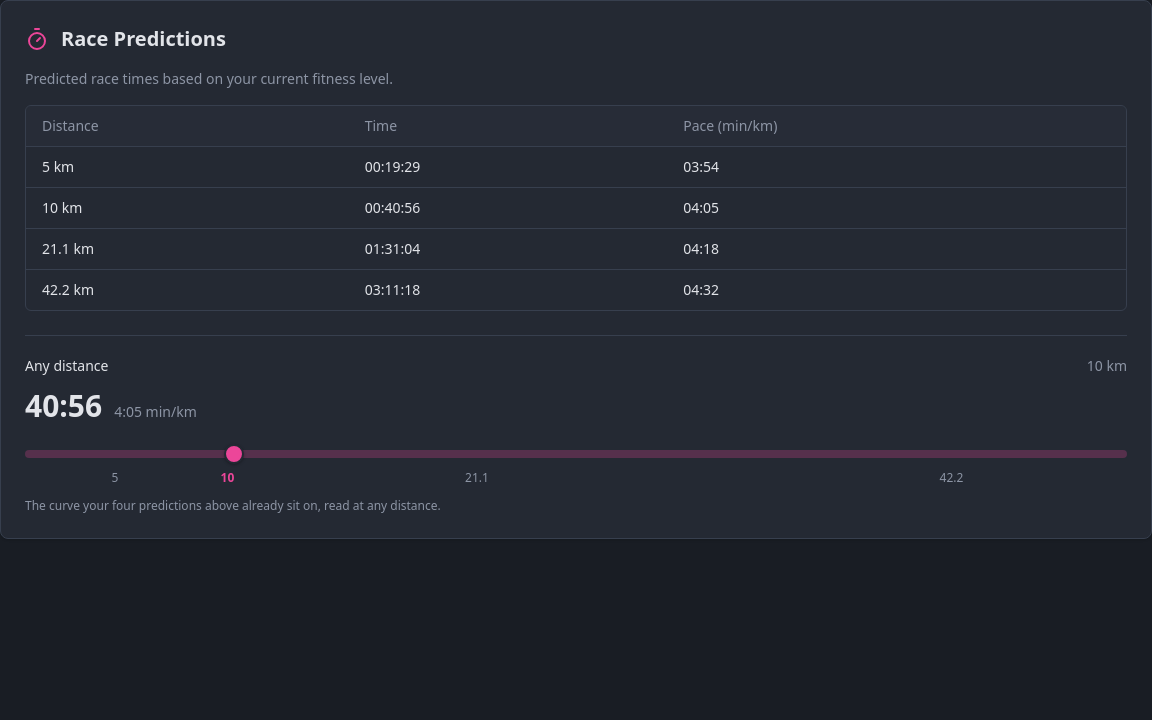
Test case: the distance slider › agrees with the table it sits under
Set the slider labelled "Any distance" to "5" at (122, 454), box [25,450,1127,458]
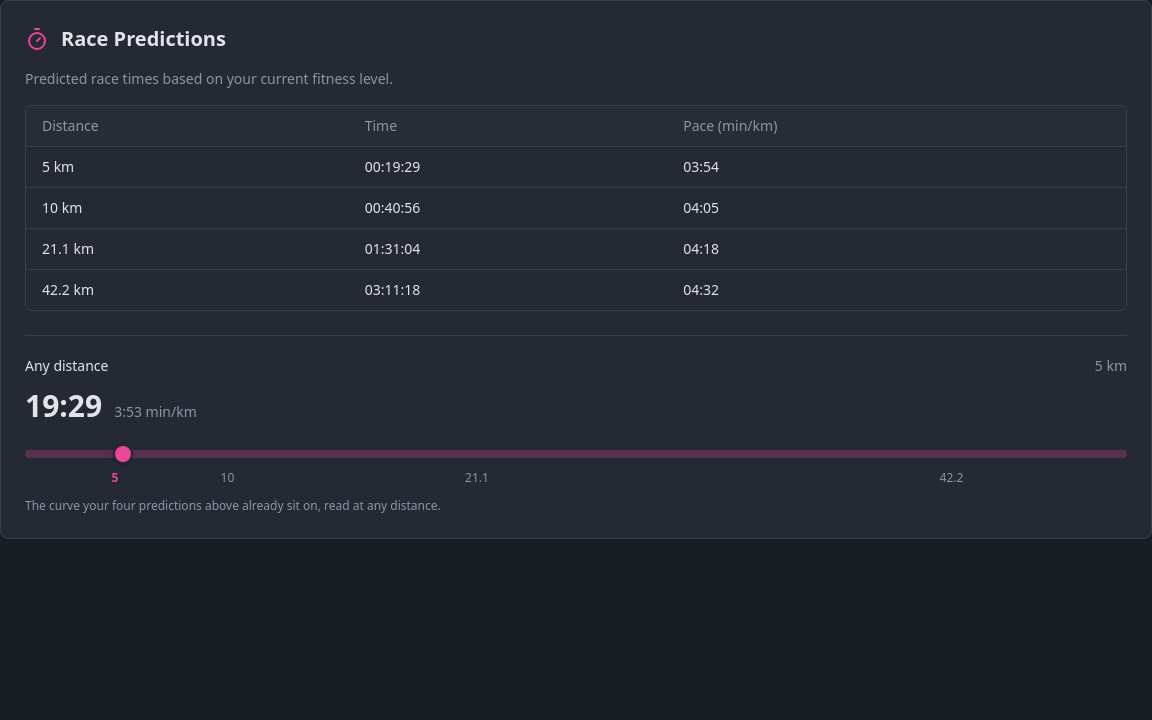
Check: the text "19:29" is shown, box [25,388,102,424]
Set the slider labelled "Any distance" to "10" at (232, 454), box [25,450,1127,458]
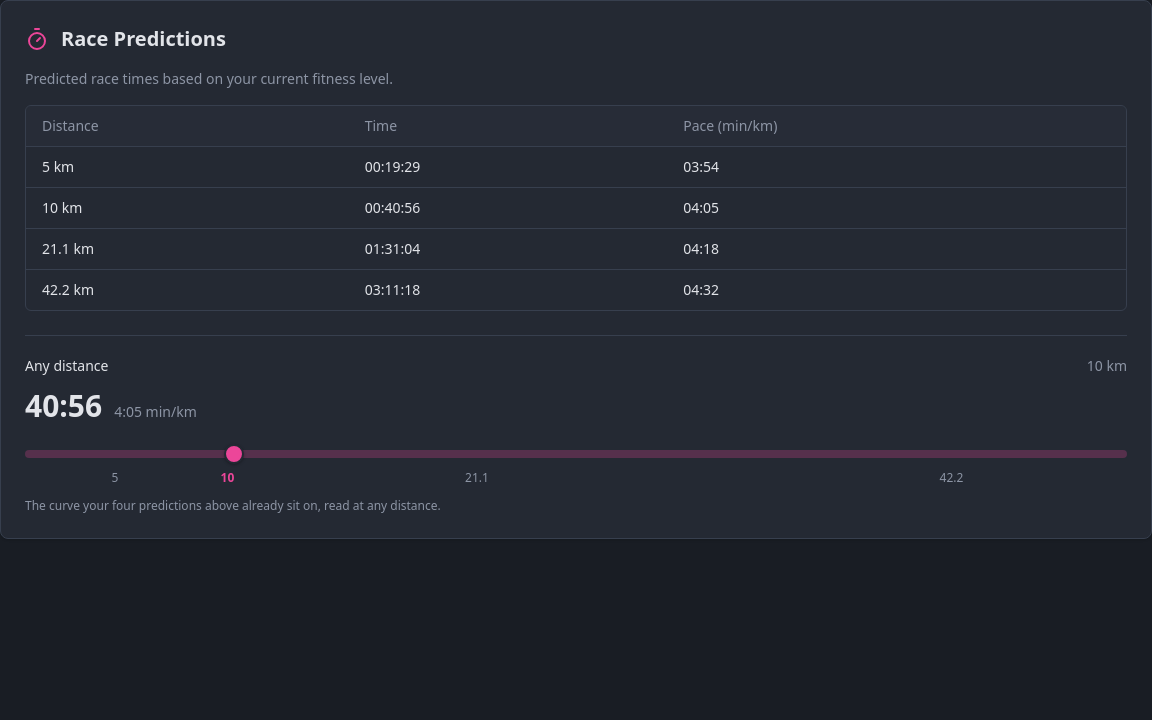
Check: the text "40:56" is shown, box [25,388,102,424]
Set the slider labelled "Any distance" to "21.0975" at (478, 454), box [25,450,1127,458]
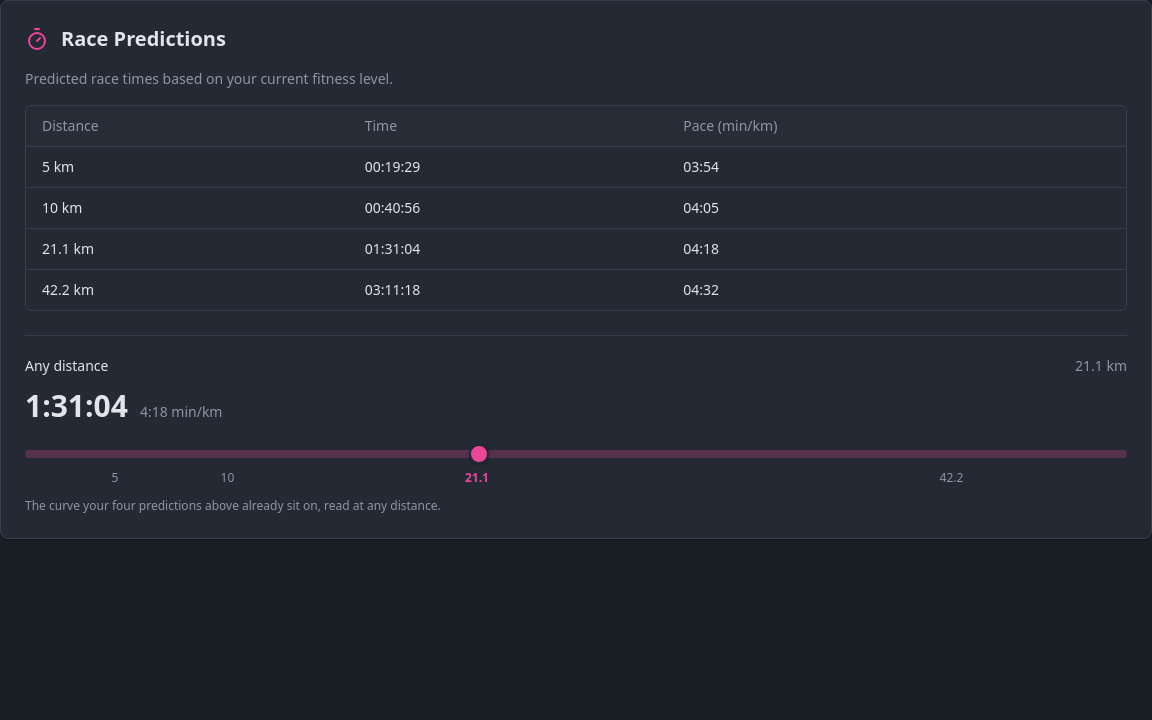
Check: the text "1:31:04" is shown, box [25,388,128,424]
Set the slider labelled "Any distance" to "42.195" at (946, 454), box [25,450,1127,458]
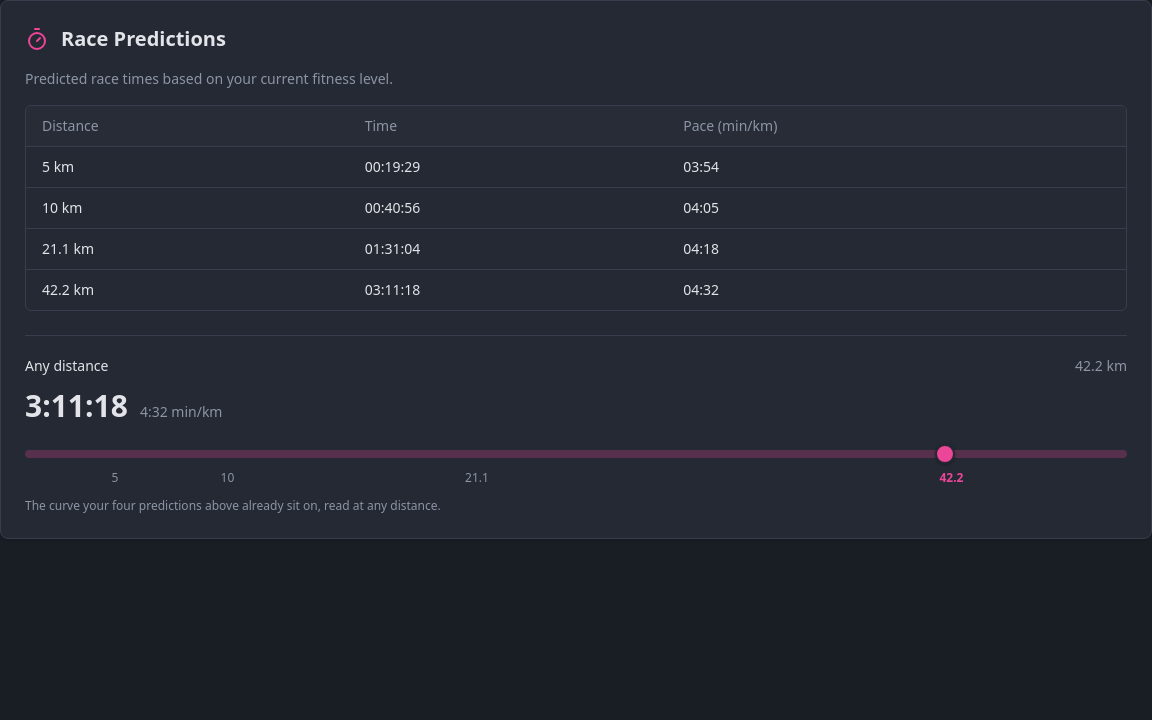
Check: the text "3:11:18" is shown, box [25,388,128,424]
